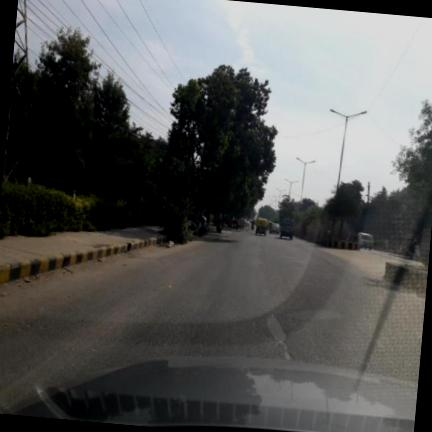Road: (0, 231, 425, 411)
